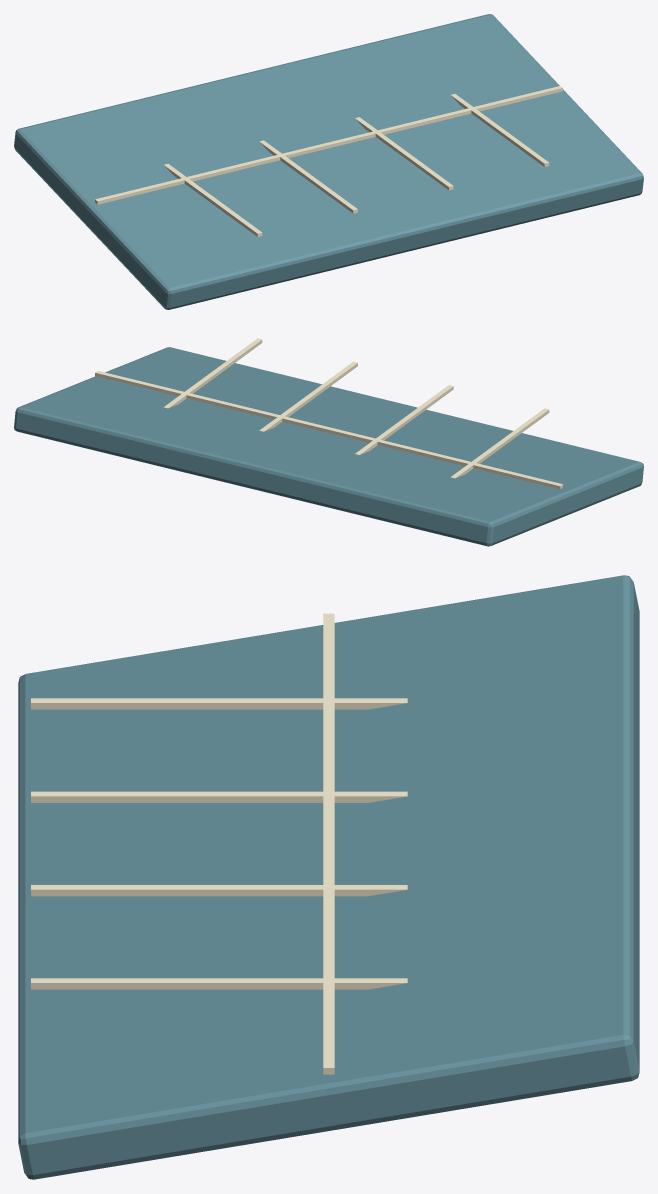
The model's file is SolarModule.fbx.
3 views of the same model, one above another, from view 1: azimuth 30°, elevation 25°; view 2: azimuth 150°, elevation 25°; view 3: azimuth 270°, elevation 25° (orthographic). The views are drawn at different scales.
Visible parts, largest first — view 1: Green Energy solar module, Solar cell seam, Solar cells.002, Solar cells, Solar cells.003, Solar cells.001; view 2: Green Energy solar module, Solar cell seam, Solar cells.002, Solar cells.003, Solar cells, Solar cells.001; view 3: Green Energy solar module, Solar cell seam, Solar cells.001, Solar cells, Solar cells.003, Solar cells.002.
Part boxes in pixels (<box>): Green Energy solar module: <box>14,14,643,309</box>; Solar cell seam: <box>95,86,562,204</box>; Solar cells.002: <box>355,117,453,190</box>; Solar cells: <box>164,163,262,236</box>; Solar cells.003: <box>451,94,549,166</box>; Solar cells.001: <box>259,140,357,213</box>; Green Energy solar module: <box>14,347,643,546</box>; Solar cell seam: <box>95,371,562,489</box>; Solar cells.002: <box>259,361,357,431</box>; Solar cells.003: <box>164,338,262,408</box>; Solar cells: <box>451,408,549,478</box>; Solar cells.001: <box>355,385,453,454</box>; Green Energy solar module: <box>18,575,639,1179</box>; Solar cell seam: <box>323,613,334,1074</box>; Solar cells.001: <box>31,791,407,802</box>; Solar cells: <box>31,698,407,709</box>; Solar cells.003: <box>31,978,407,989</box>; Solar cells.002: <box>31,885,407,896</box>.
Size of the model in its own units: 150 by 21.67 by 84.45.
